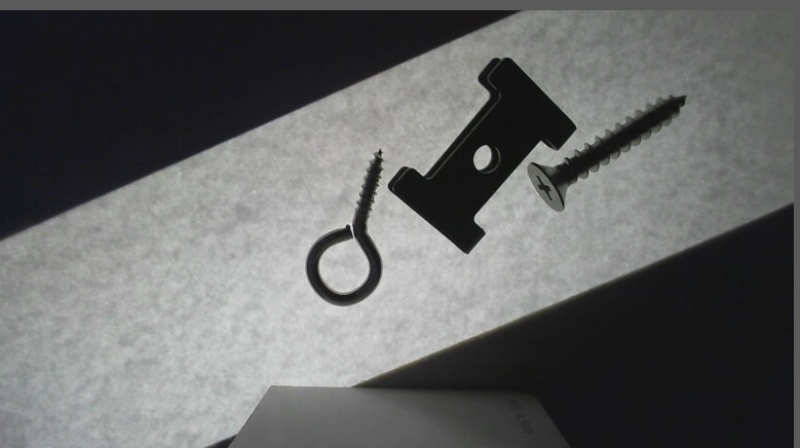O001: (302, 145, 387, 307)
O002: (385, 57, 579, 255)
S001: (528, 91, 690, 211)
